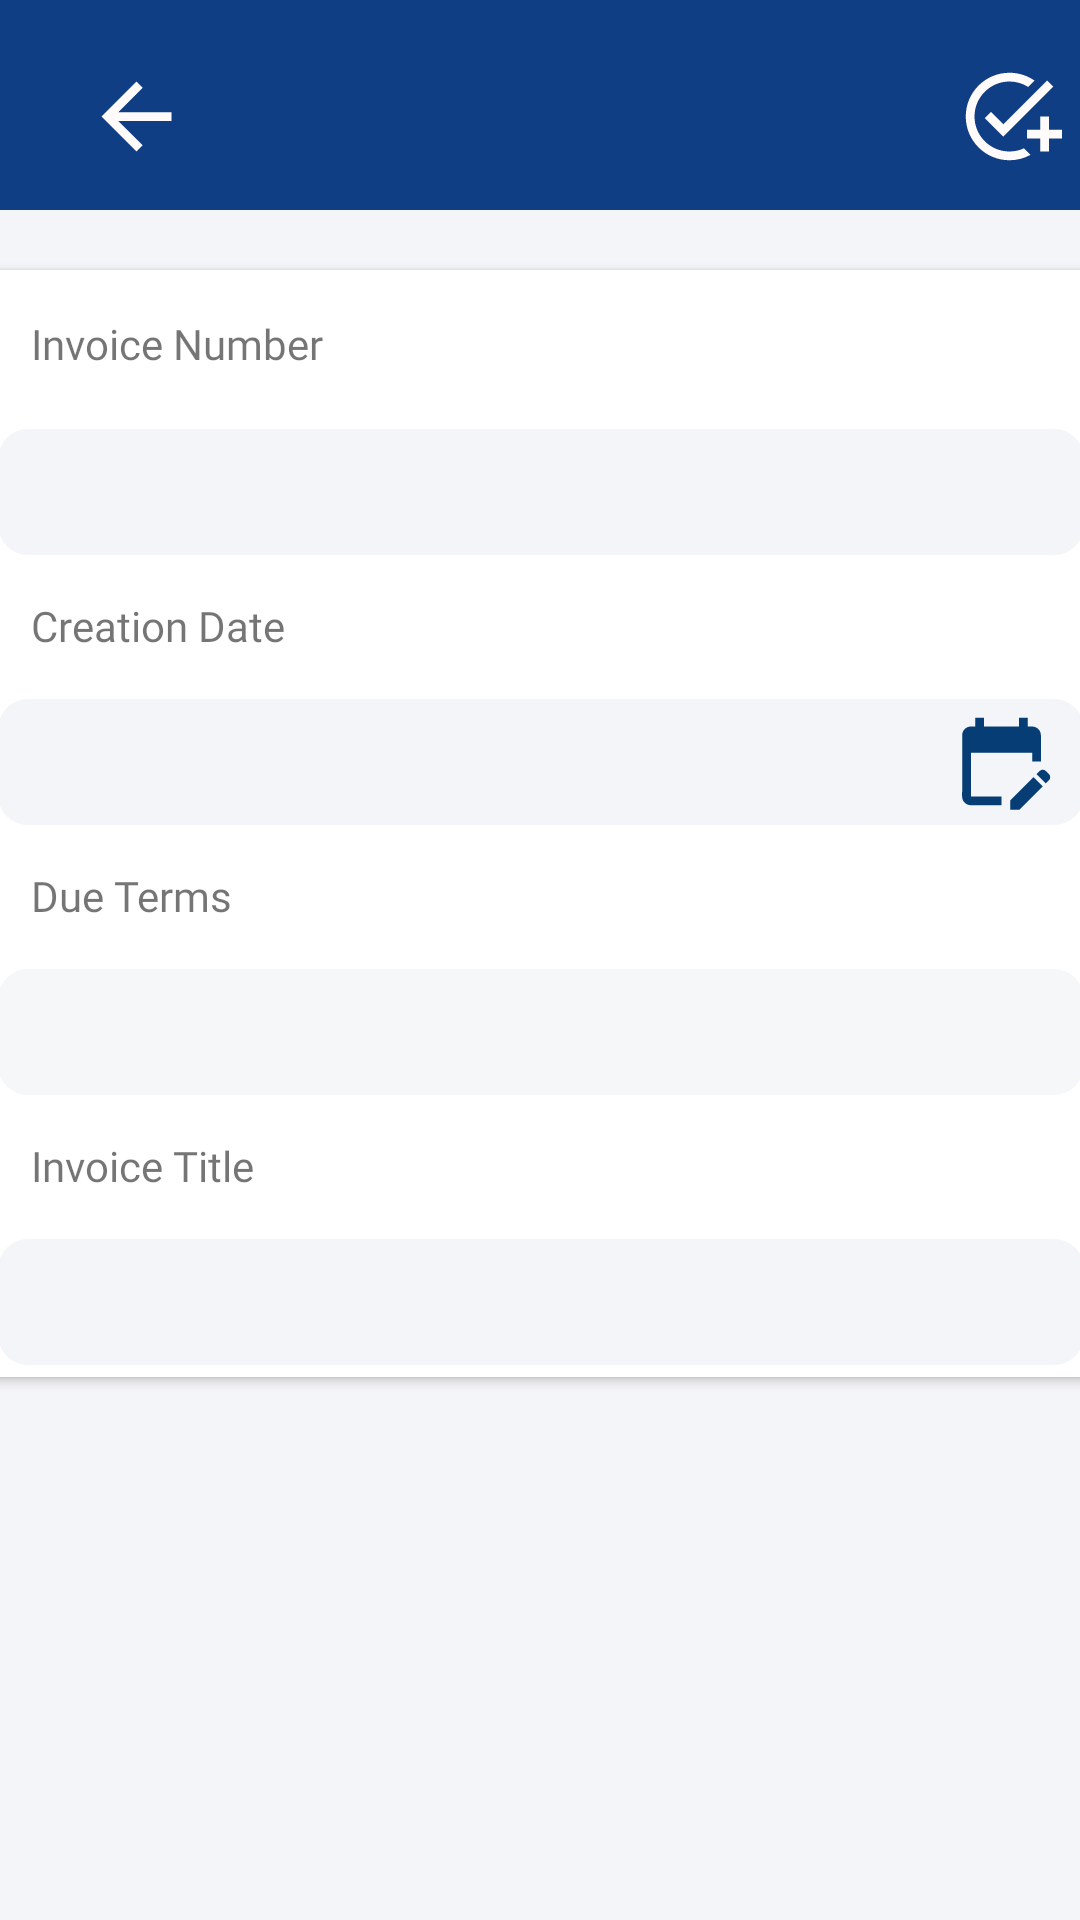

Screen size 1080×1920. Icon name, then its box in pixels as (x1, y1, x2, y2):
edit calendar: (962, 717, 1051, 810)
